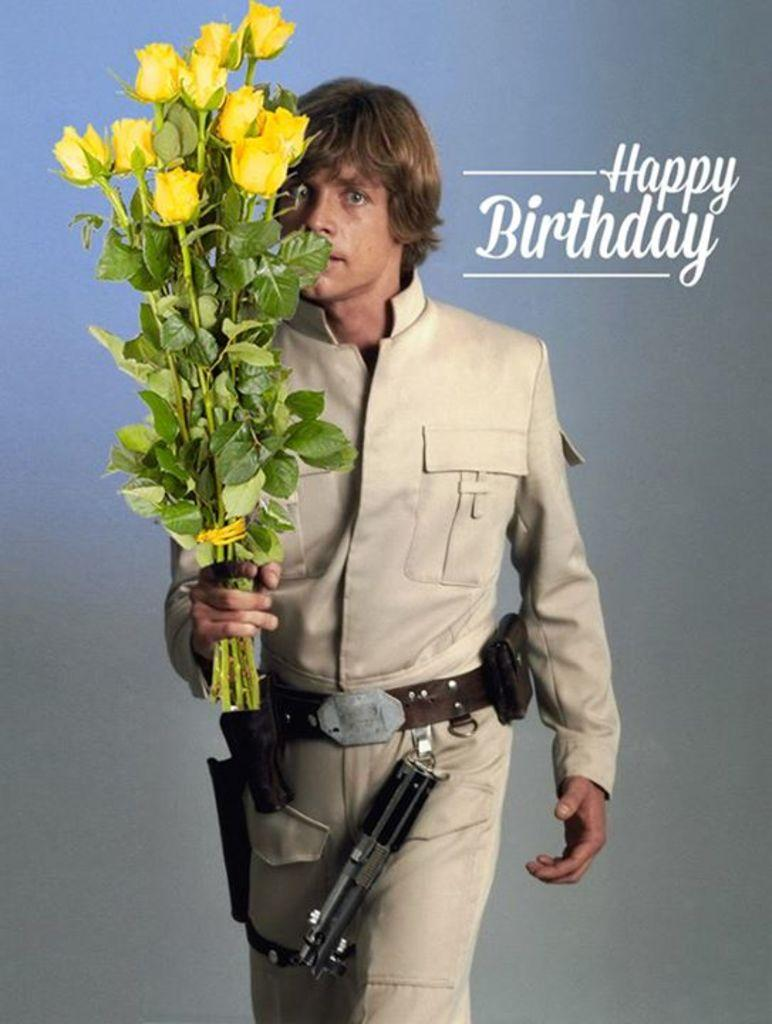non-violence: (169, 76, 621, 1024)
weapon: (284, 755, 439, 971)
